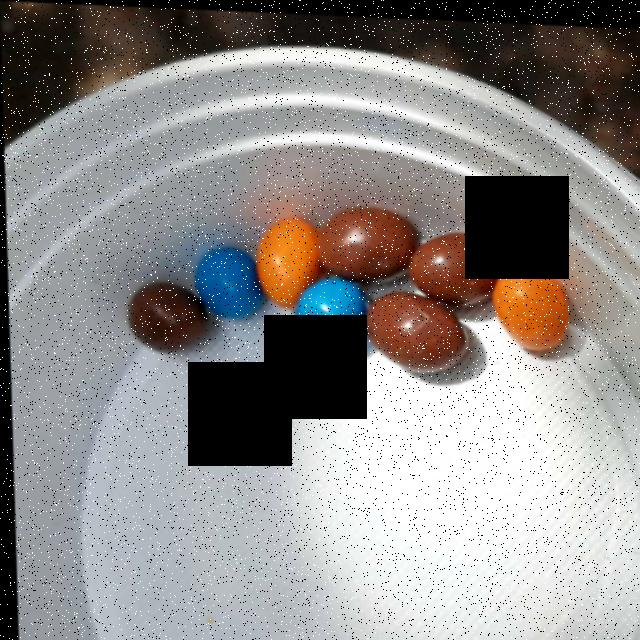m-m-s: (124, 217, 570, 393)
